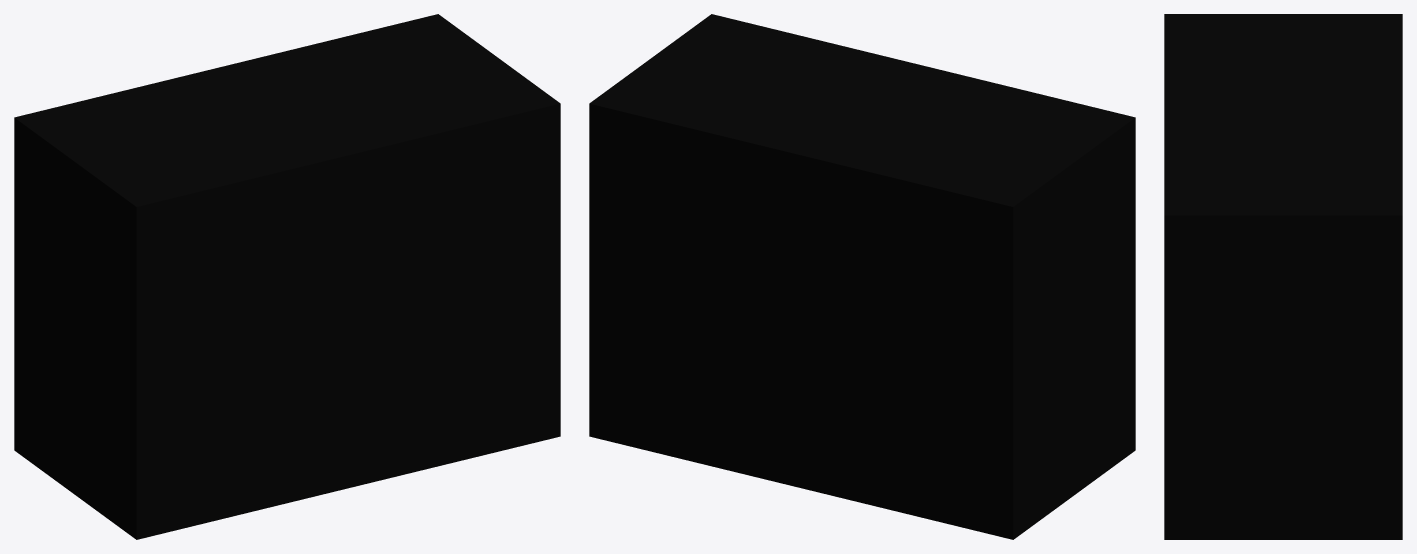
File: woodenDresserSideboard.glb
3 renders of one model, left to right at view 1: azimuth 30°, elevation 25°; view 2: azimuth 150°, elevation 25°; view 3: azimuth 270°, elevation 25°, orthographic. The views are drawn at different scales.
Visible parts, largest first — view 1: woodenDresserSideboard_0; view 2: woodenDresserSideboard_0; view 3: woodenDresserSideboard_0.
Boxes of the visible parts, bbox=[...] form: woodenDresserSideboard_0: bbox=[14, 14, 560, 539]; woodenDresserSideboard_0: bbox=[589, 14, 1135, 539]; woodenDresserSideboard_0: bbox=[1164, 14, 1402, 539].
Size of the model in its own units: 1.25 by 0.9375 by 0.625.
1 material, 1 textured.
